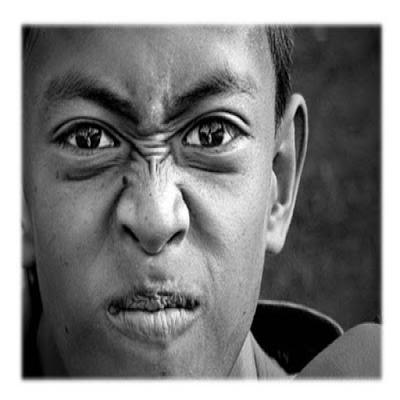angry: (24, 26, 308, 369)
